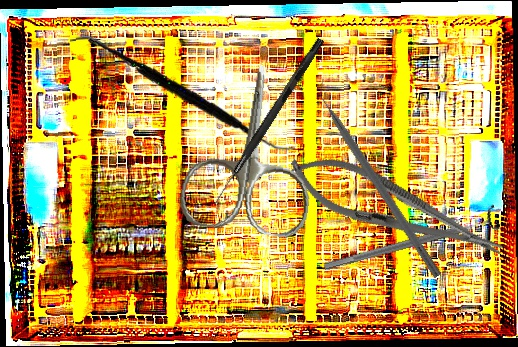Chopper: (309, 75, 453, 279)
Fixation Ring: (320, 203, 502, 281)
Hook Surgical: (211, 36, 325, 208)
Iris Scissors: (176, 55, 328, 241)
Needle Holder: (280, 141, 512, 277)
Spatula Surgical: (69, 24, 296, 165)
